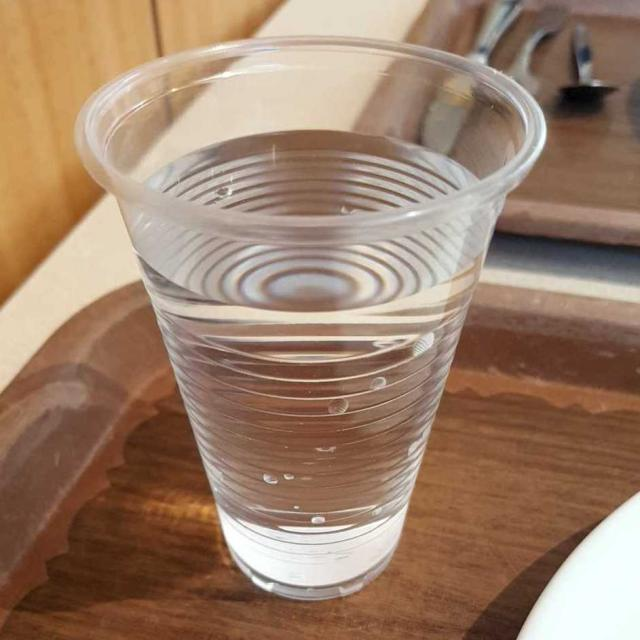water: (128, 110, 494, 573)
